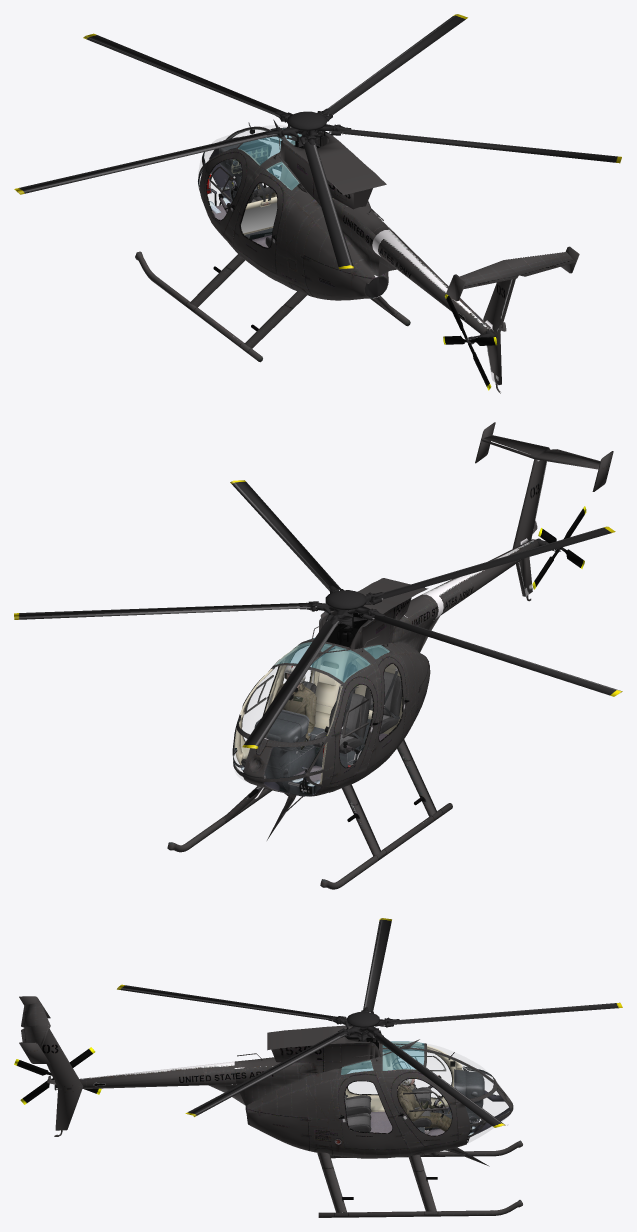
The picture shows the model from 3 angles, top to bottom: view 1: azimuth 30°, elevation 25°; view 2: azimuth 150°, elevation 25°; view 3: azimuth 270°, elevation 25°; orthographic projection. The views are drawn at different scales.
Parts seen in each view (by area): view 1: xtr_fuselage1, rotor_main, xtr_tail, xtr_fuselage2, glasss_grn, int_seats2, int_console, rotor_tail, int_seats1, int_fuselage2; view 2: rotor_main, xtr_fuselage1, xtr_fuselage2, xtr_tail, int_seats1, int_console, int_fuselage1, glasss_grn, int_fuselage3, int_pilotR, int_fuselage2, glass (+2 smaller); view 3: xtr_fuselage1, rotor_main, xtr_tail, xtr_fuselage2, int_seats1, glass, int_fuselage1, glasss_grn, int_pilotR, int_console, rotor_tail, int_fuselage2 (+1 smaller).
Part boxes in pixels (bbox=[...]): xtr_fuselage1: bbox=[198, 119, 391, 298]; rotor_main: bbox=[14, 14, 621, 269]; xtr_tail: bbox=[344, 204, 579, 393]; xtr_fuselage2: bbox=[135, 127, 410, 362]; glasss_grn: bbox=[238, 128, 301, 190]; int_seats2: bbox=[241, 196, 333, 239]; int_console: bbox=[206, 139, 271, 201]; rotor_tail: bbox=[443, 294, 497, 390]; int_seats1: bbox=[209, 122, 345, 247]; int_fuselage2: bbox=[198, 128, 285, 202]; rotor_main: bbox=[14, 480, 622, 748]; xtr_fuselage1: bbox=[242, 587, 438, 840]; xtr_fuselage2: bbox=[167, 578, 452, 889]; xtr_tail: bbox=[404, 422, 613, 652]; int_seats1: bbox=[241, 647, 409, 794]; int_console: bbox=[254, 709, 324, 791]; int_fuselage1: bbox=[234, 642, 403, 784]; glasss_grn: bbox=[274, 638, 389, 682]; int_fuselage3: bbox=[314, 646, 370, 729]; int_pilotR: bbox=[241, 663, 316, 766]; int_fuselage2: bbox=[232, 646, 341, 796]; glass: bbox=[234, 667, 310, 781]; xtr_fuselage1: bbox=[235, 1030, 508, 1166]; rotor_main: bbox=[117, 918, 622, 1127]; xtr_tail: bbox=[19, 996, 280, 1136]; xtr_fuselage2: bbox=[246, 1025, 522, 1217]; int_seats1: bbox=[338, 1052, 481, 1142]; glass: bbox=[348, 1044, 508, 1143]; int_fuselage1: bbox=[341, 1042, 463, 1135]; glasss_grn: bbox=[341, 1041, 424, 1074]; int_pilotR: bbox=[397, 1068, 472, 1135]; int_console: bbox=[425, 1069, 484, 1132]; rotor_tail: bbox=[14, 1047, 101, 1104]; int_fuselage2: bbox=[382, 1043, 511, 1136].
Bounding box in the file's own units: 7.48 × 2.89 × 9.2.
13 materials, 12 textured.
